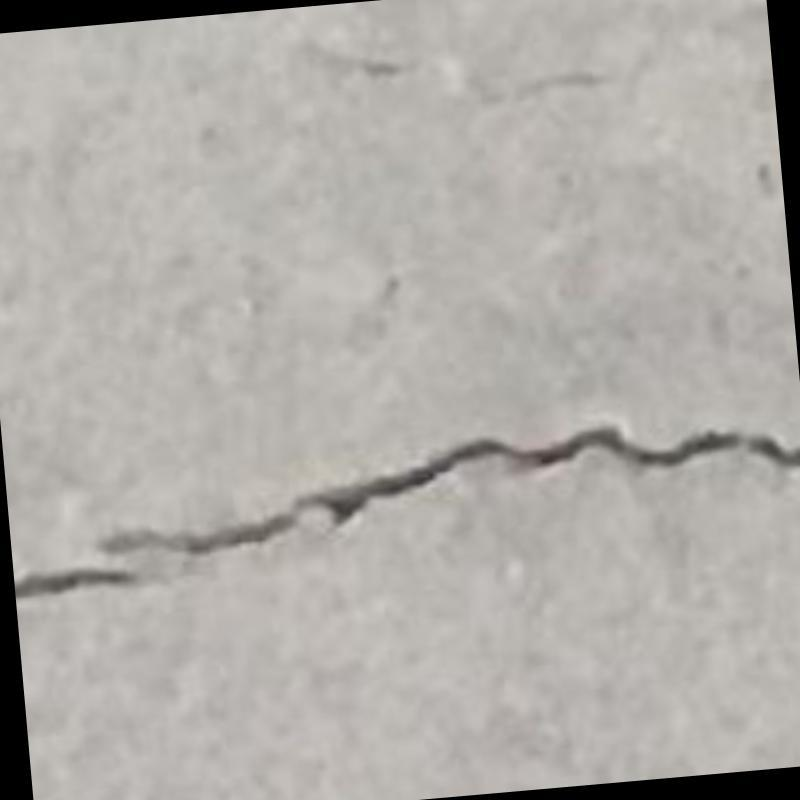pothole: (15, 427, 800, 602)
